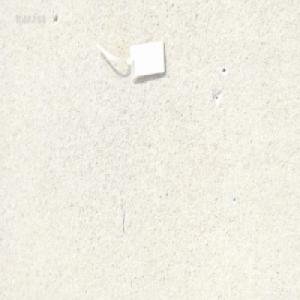LuggageTag: (94, 36, 166, 83)
